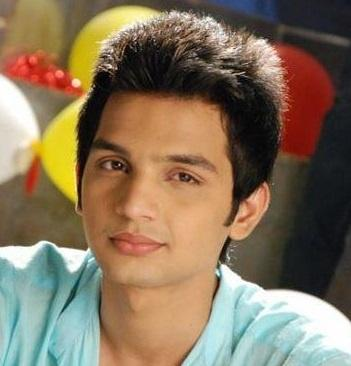No Mask: (66, 36, 304, 348)
